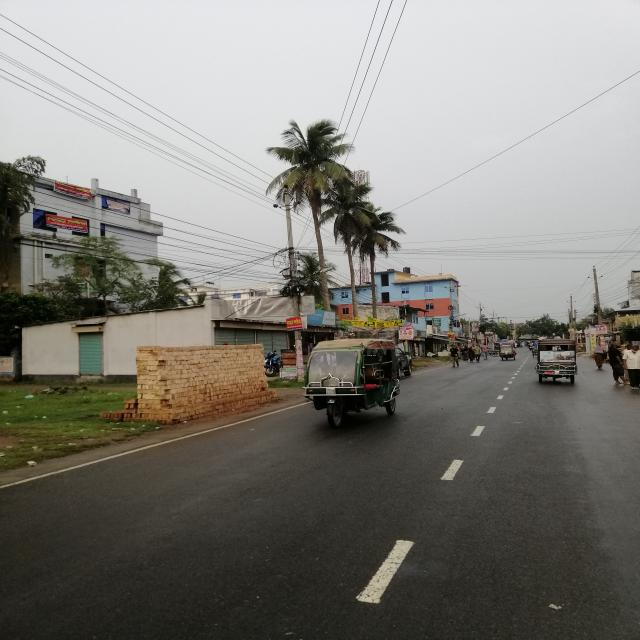Easybike: (303, 338, 401, 427), (536, 337, 578, 383), (497, 342, 519, 363)
